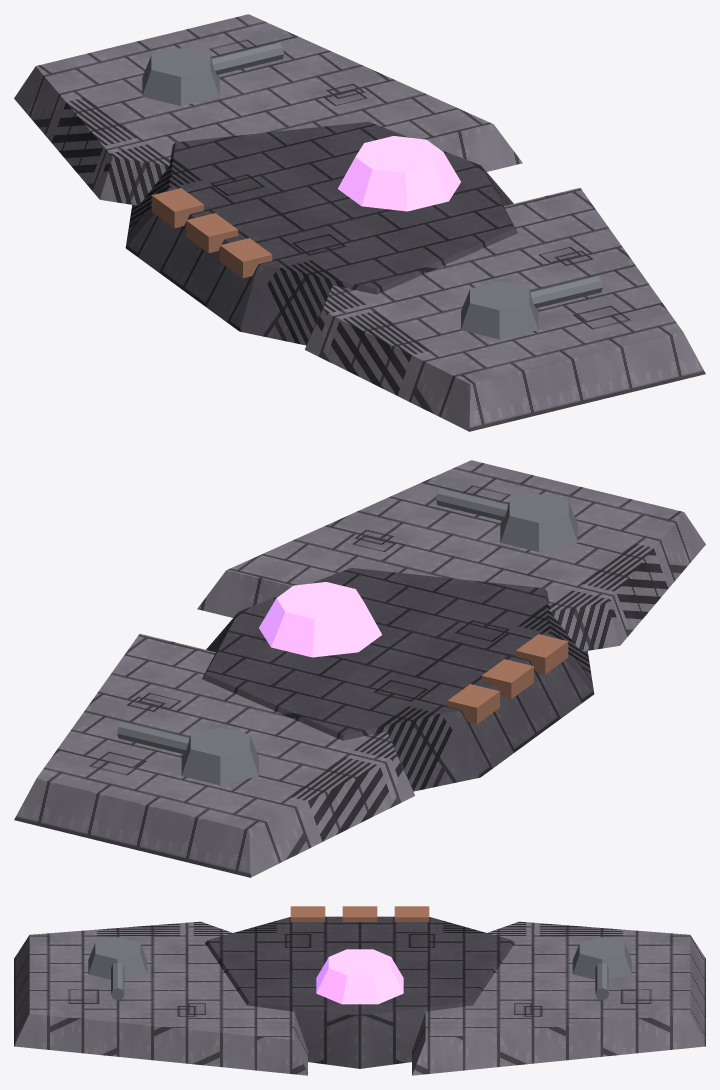
Rendered from furnace_iris.glb.
The picture shows the model from 3 angles, top to bottom: view 1: azimuth 30°, elevation 25°; view 2: azimuth 150°, elevation 25°; view 3: azimuth 270°, elevation 25°; orthographic projection. The views are drawn at different scales.
Size of the model in its own units: 38 by 8 by 80.
Materials: 7 (3 with a texture image).
